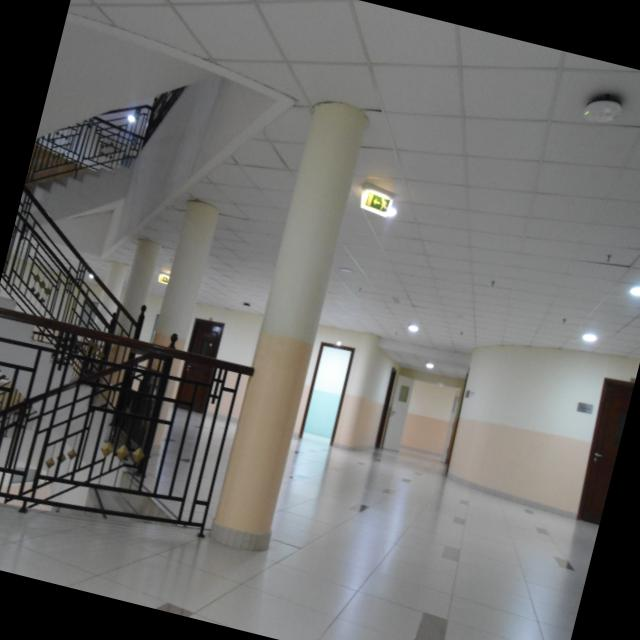exitLight: (353, 182, 405, 224), (152, 264, 176, 286)
light: (575, 324, 603, 352), (623, 283, 640, 305), (406, 320, 422, 340), (422, 361, 438, 374)
pillar: (204, 88, 378, 562), (118, 190, 225, 454), (89, 224, 162, 409)
railing: (0, 291, 273, 568), (0, 281, 180, 522), (0, 177, 178, 416), (22, 69, 158, 215)
wall: (438, 343, 634, 520), (326, 333, 401, 457), (396, 376, 466, 462)
